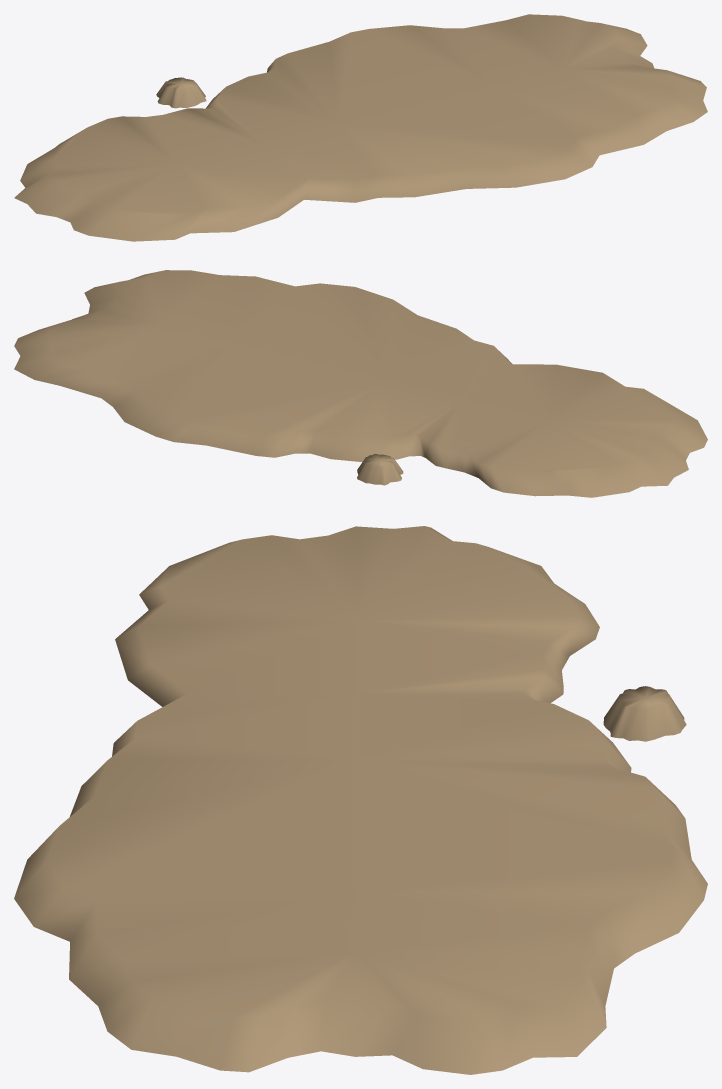
The model's file is P_SteppingStones_01.fbx.
The picture shows the model from 3 angles, top to bottom: view 1: azimuth 30°, elevation 25°; view 2: azimuth 150°, elevation 25°; view 3: azimuth 270°, elevation 25°; orthographic projection. The views are drawn at different scales.
Visible parts, largest first — view 1: lod1; view 2: lod1; view 3: lod1.
Boxes of the visible parts, x1,y1,x2,y2 form: lod1: (14,14,707,241); lod1: (14,270,707,497); lod1: (14,526,707,1074).
Size of the model in its own units: 346 by 9.53 by 186.
1 material, 1 textured.
